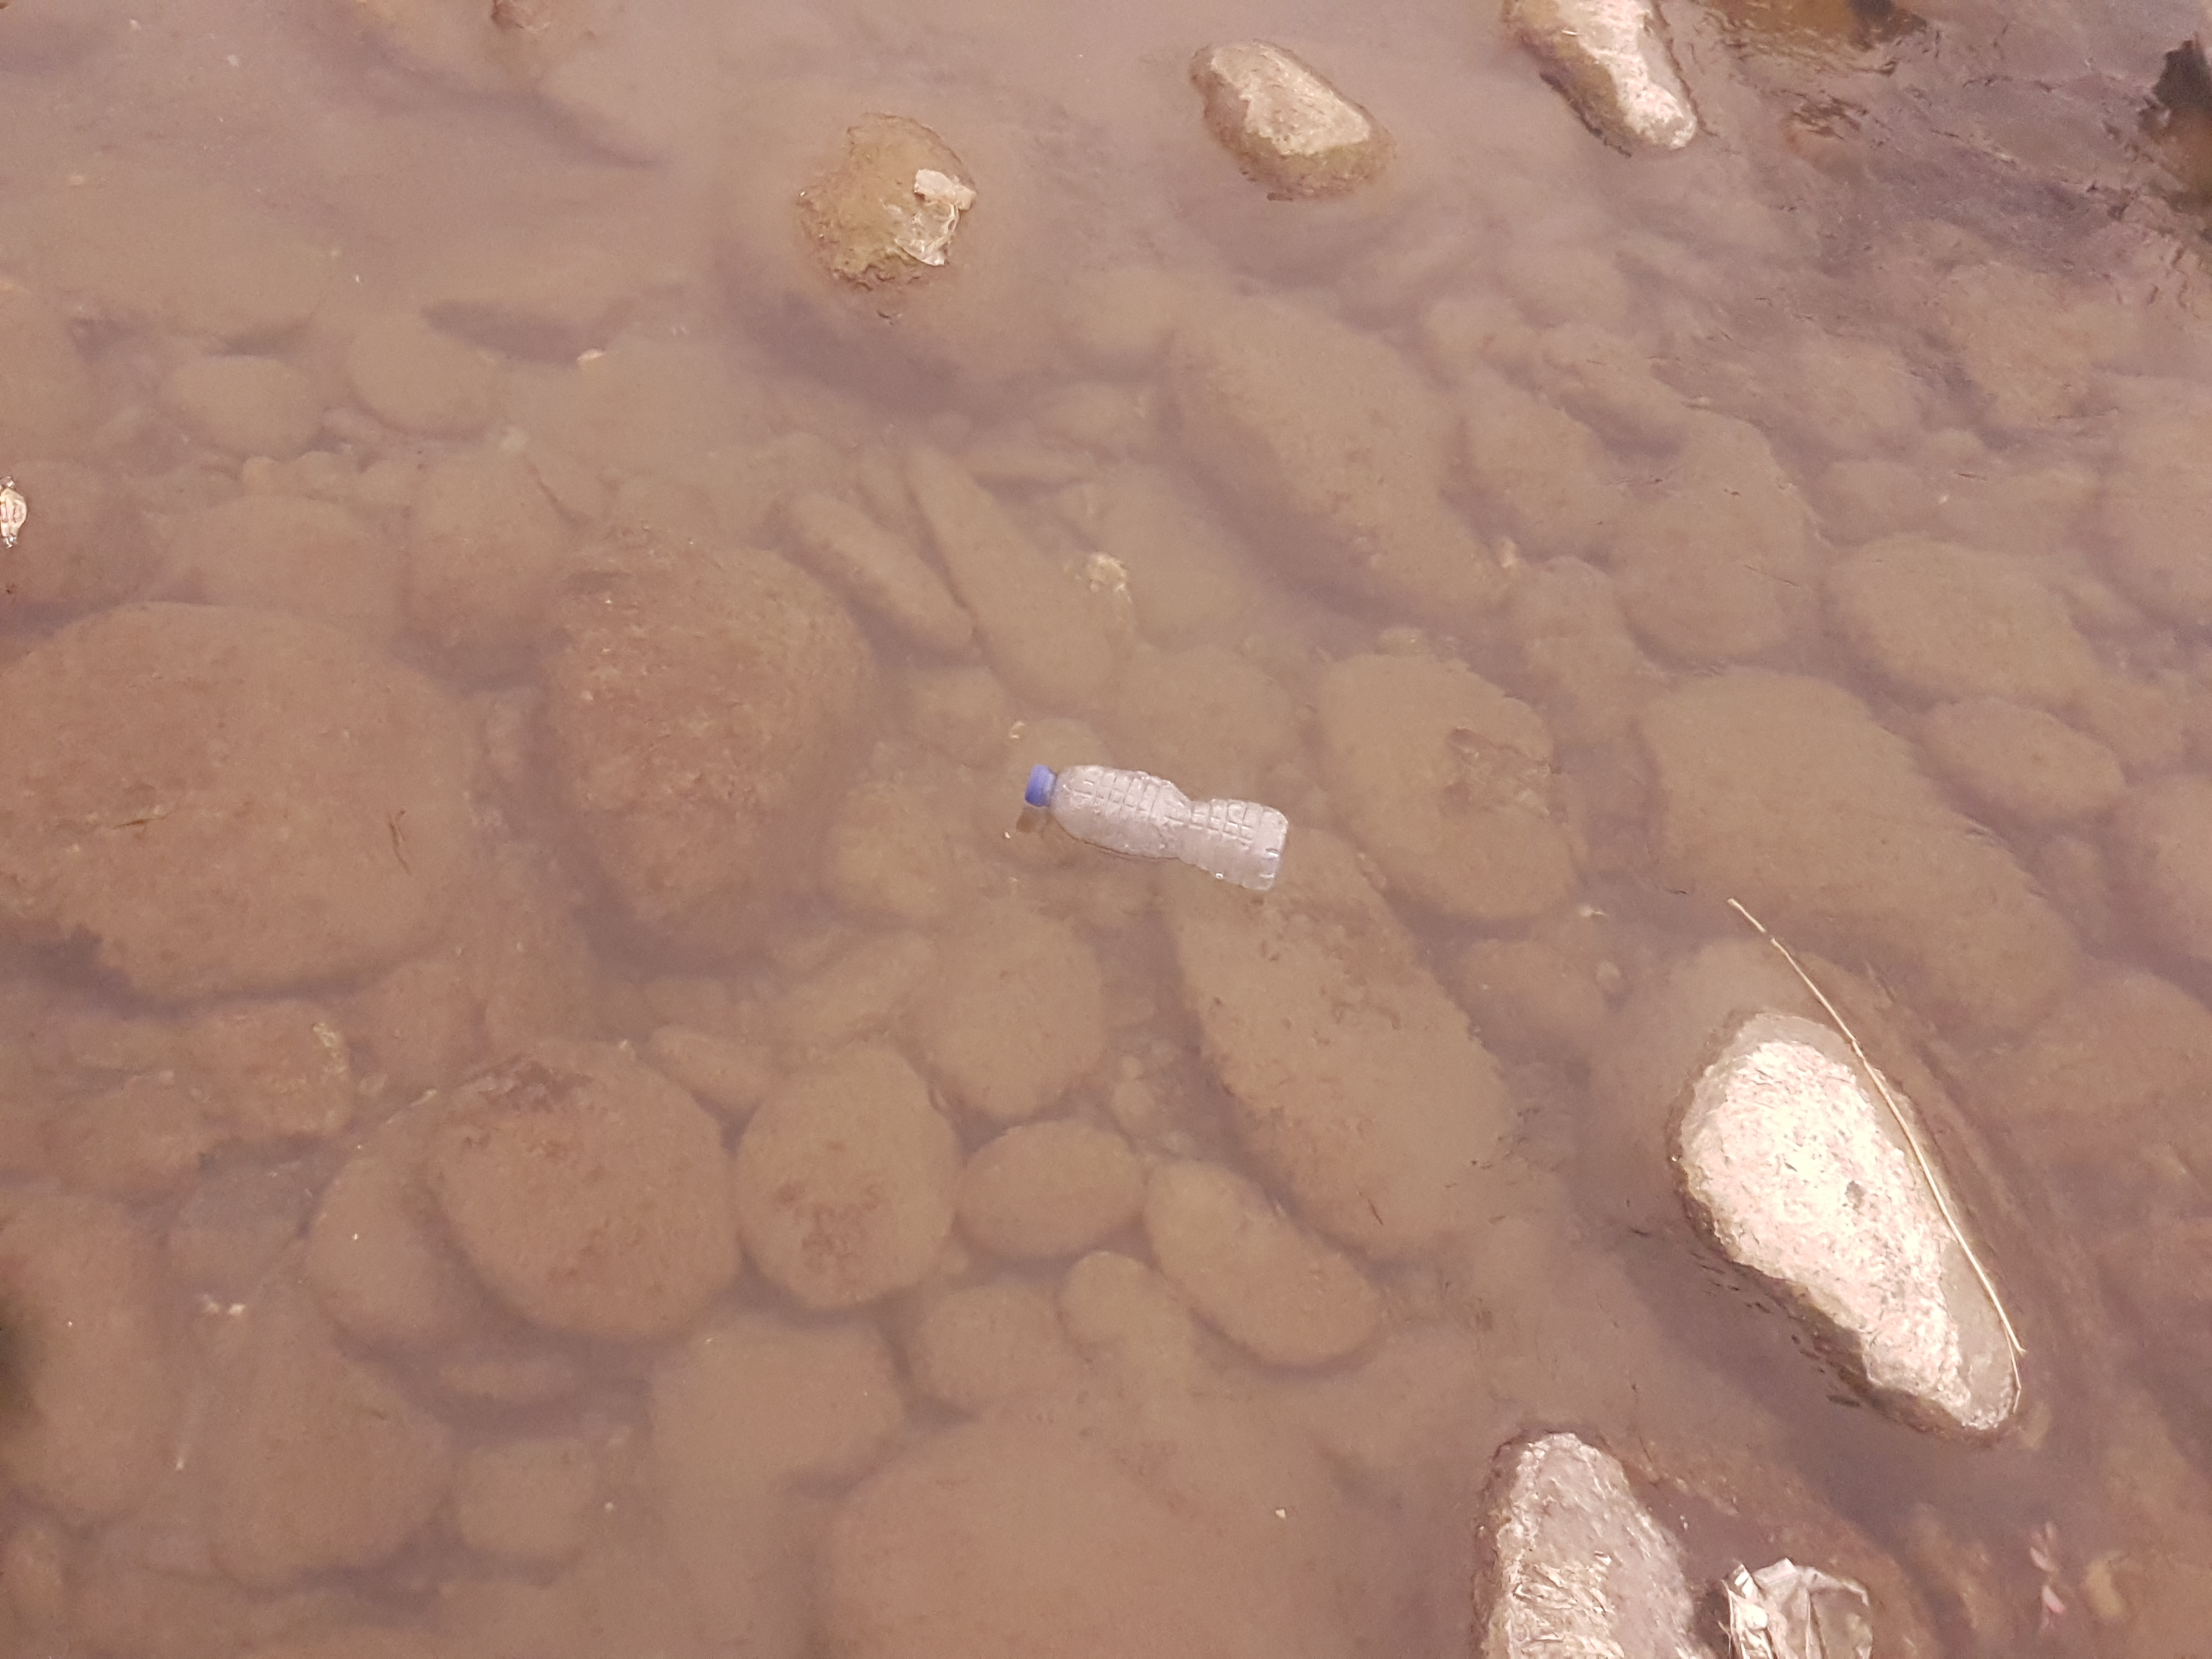Plastic Bottle: (1021, 763, 1287, 894)
